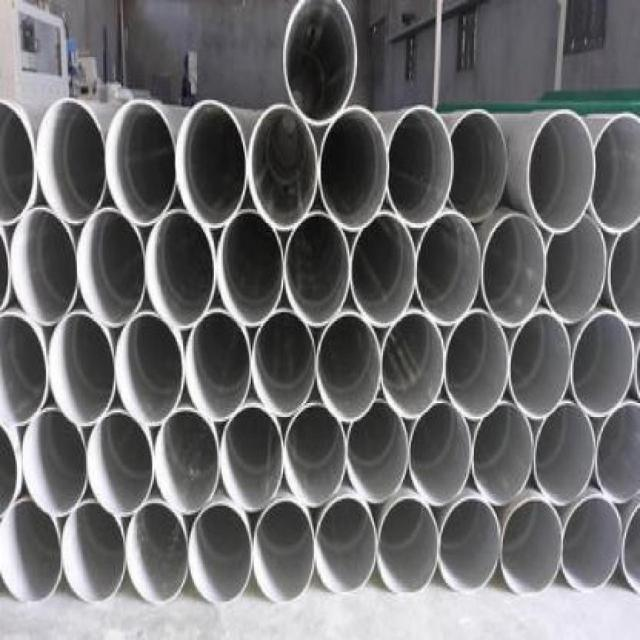pipe: (281, 0, 358, 127), (175, 100, 248, 228), (105, 100, 178, 225), (319, 107, 390, 233), (36, 97, 106, 223), (527, 110, 597, 236), (249, 106, 318, 230), (77, 208, 147, 328), (145, 211, 216, 329), (388, 106, 455, 228), (114, 312, 184, 426), (11, 208, 79, 325), (217, 209, 285, 326), (284, 213, 351, 326), (481, 215, 548, 328), (48, 313, 115, 425), (350, 211, 415, 326), (416, 213, 481, 326), (186, 310, 251, 422), (444, 309, 509, 420), (85, 411, 153, 516), (316, 312, 381, 420), (381, 312, 446, 420), (22, 409, 87, 515), (544, 215, 607, 324), (155, 408, 220, 513), (571, 311, 634, 419), (220, 406, 283, 512), (449, 109, 509, 220), (253, 312, 316, 417), (409, 402, 472, 507), (509, 314, 571, 419), (534, 403, 596, 508), (471, 403, 534, 506), (284, 403, 346, 507), (126, 501, 188, 605), (347, 400, 409, 503), (0, 499, 62, 601), (62, 500, 125, 600), (500, 498, 563, 597), (189, 503, 251, 603), (315, 496, 377, 593), (378, 497, 440, 594), (254, 501, 314, 601), (592, 111, 640, 235), (439, 499, 502, 593), (561, 496, 623, 591), (0, 313, 46, 425), (0, 97, 40, 225), (594, 402, 639, 504), (607, 223, 640, 328)
